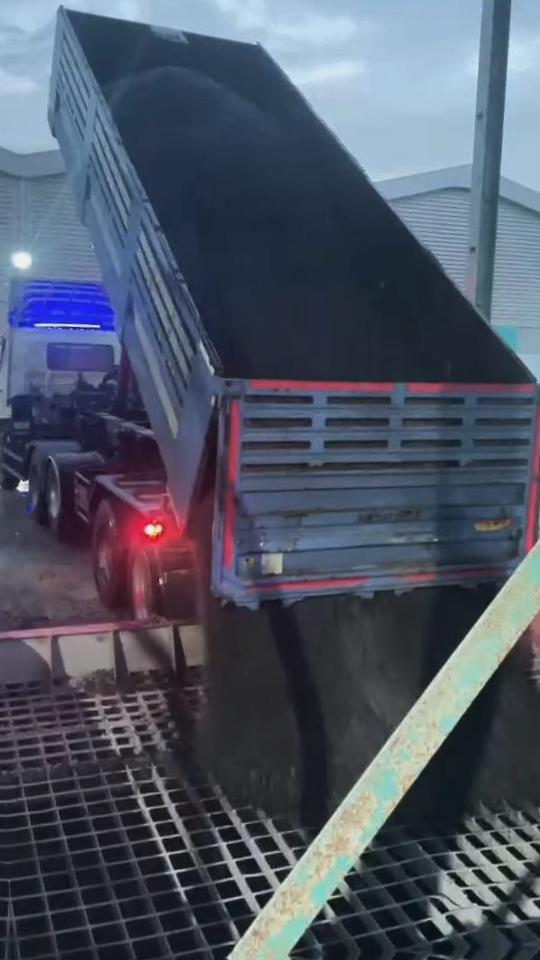gravel: (113, 70, 400, 380), (202, 587, 493, 826), (395, 650, 540, 822)
